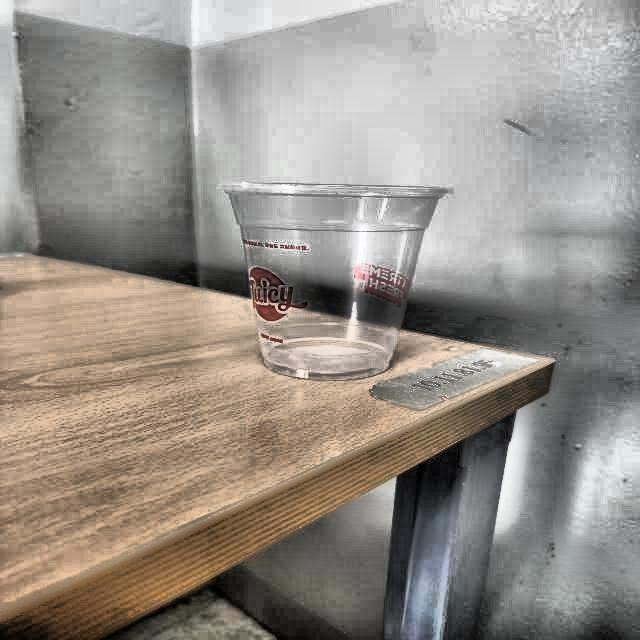plastic cup: (218, 178, 458, 381)
